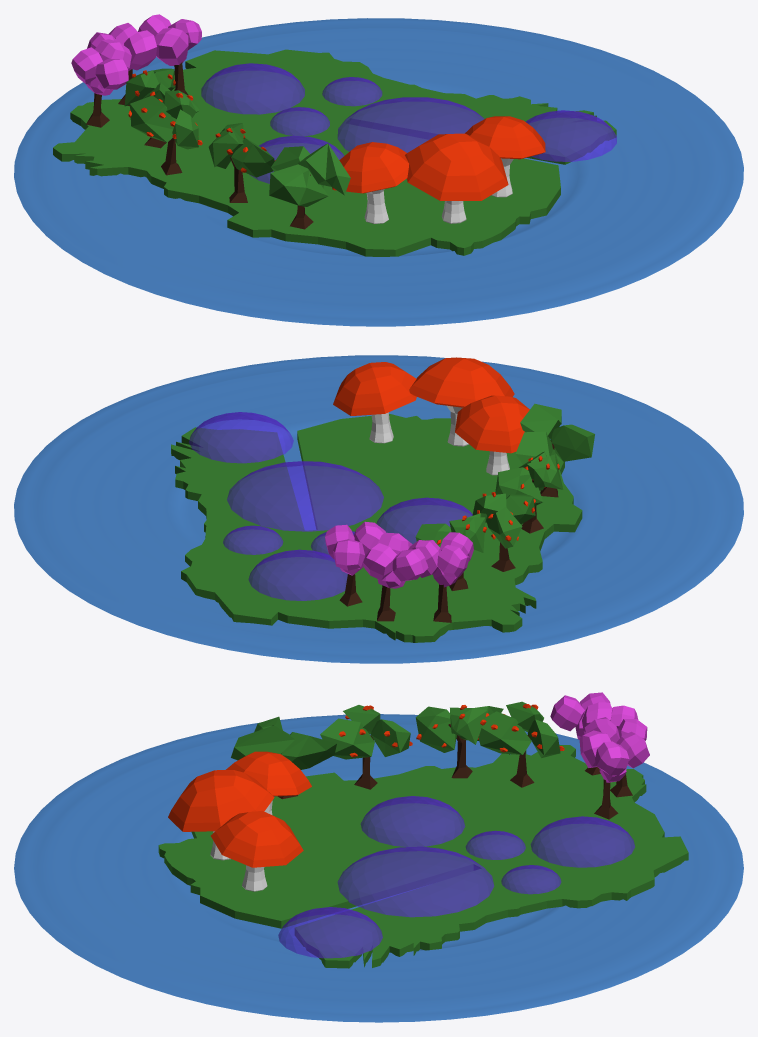
The model's file is island_Sacrementum.gltf.
The picture shows the model from 3 angles, top to bottom: view 1: azimuth 30°, elevation 25°; view 2: azimuth 150°, elevation 25°; view 3: azimuth 270°, elevation 25°; orthographic projection.
Parts seen in each view (by area): view 1: water_Sacrementum, island_Haven.001, Mushroom_red, Icosphere, Icosphere.003, Tree.003, Icosphere.001, Tree.005, Mushroom_red.001, Tree.002, Mushroom_red.002, Tree.004 (+6 smaller); view 2: water_Sacrementum, island_Haven.001, Icosphere, Icosphere.001, Icosphere.003, Mushroom_red, Mushroom_red.002, Mushroom_red.001, Tree.003, Tree.007, Tree.005, Tree.002 (+5 smaller); view 3: water_Sacrementum, island_Haven.001, Icosphere, Mushroom_red, Mushroom_red.002, Icosphere.001, Icosphere.003, Icosphere.002, Tree.004, Tree.006, Tree.005, Tree.008 (+6 smaller).
Boxes of the visible parts, left/top/right/bottom form: water_Sacrementum: left=14, top=18, right=743, bottom=326; island_Haven.001: left=53, top=49, right=616, bottom=256; Mushroom_red: left=405, top=133, right=508, bottom=223; Icosphere: left=337, top=97, right=484, bottom=152; Icosphere.003: left=201, top=63, right=304, bottom=114; Tree.003: left=269, top=143, right=350, bottom=229; Icosphere.001: left=525, top=110, right=616, bottom=161; Tree.005: left=128, top=90, right=202, bottom=175; Mushroom_red.001: left=332, top=142, right=408, bottom=223; Tree.002: left=71, top=39, right=131, bottom=127; Mushroom_red.002: left=465, top=116, right=545, bottom=197; Tree.004: left=208, top=123, right=275, bottom=202; water_Sacrementum: left=14, top=355, right=743, bottom=663; island_Haven.001: left=171, top=414, right=582, bottom=642; Icosphere: left=227, top=461, right=383, bottom=531; Icosphere.001: left=189, top=412, right=293, bottom=463; Icosphere.003: left=248, top=549, right=347, bottom=600; Mushroom_red: left=409, top=357, right=514, bottom=446; Mushroom_red.002: left=333, top=362, right=416, bottom=443; Mushroom_red.001: left=455, top=395, right=529, bottom=475; Tree.003: left=515, top=403, right=594, bottom=497; Tree.007: left=363, top=532, right=428, bottom=621; Tree.005: left=472, top=492, right=535, bottom=571; Tree.002: left=408, top=532, right=473, bottom=622; water_Sacrementum: left=14, top=714, right=743, bottom=1022; island_Haven.001: left=158, top=745, right=688, bottom=968; Icosphere: left=337, top=846, right=493, bottom=917; Mushroom_red: left=168, top=770, right=274, bottom=860; Mushroom_red.002: left=210, top=810, right=303, bottom=891; Icosphere.001: left=278, top=907, right=382, bottom=958; Icosphere.003: left=530, top=816, right=634, bottom=867; Icosphere.002: left=360, top=796, right=465, bottom=846; Tree.004: left=320, top=705, right=412, bottom=789; Tree.006: left=478, top=701, right=564, bottom=787; Tree.005: left=415, top=705, right=503, bottom=778; Tree.008: left=579, top=730, right=649, bottom=819.
Bounding box in the file's own units: 820 × 115 × 820.
